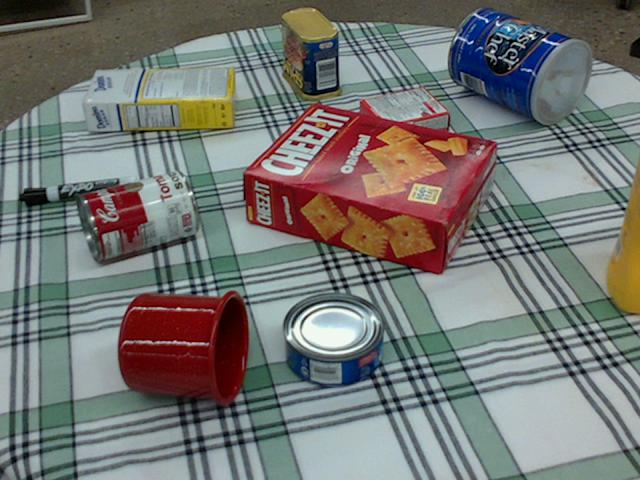cracker_box: (244, 101, 496, 272)
gelatin_box: (357, 83, 449, 146)
large_marker: (18, 175, 135, 205)
master_chef_can: (447, 8, 590, 123)
mug: (116, 286, 248, 404)
mustard_bottle: (606, 137, 639, 311)
potted_meat_can: (280, 7, 341, 99)
sugar_box: (82, 67, 236, 129)
tomato_soup_can: (75, 168, 197, 261)
tuna_fish_can: (282, 292, 384, 387)
